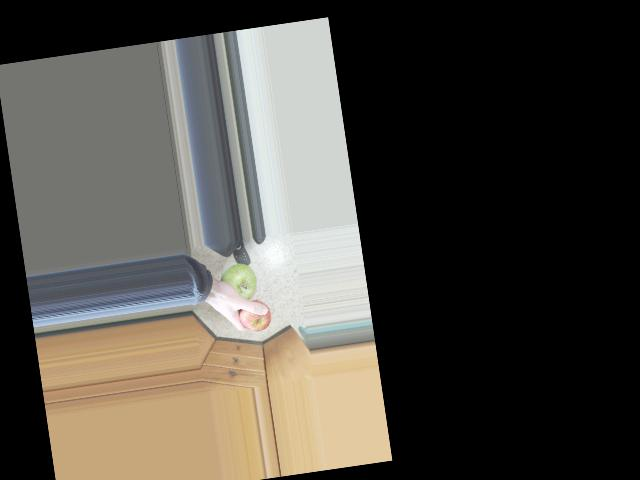apple: (214, 258, 261, 305)
